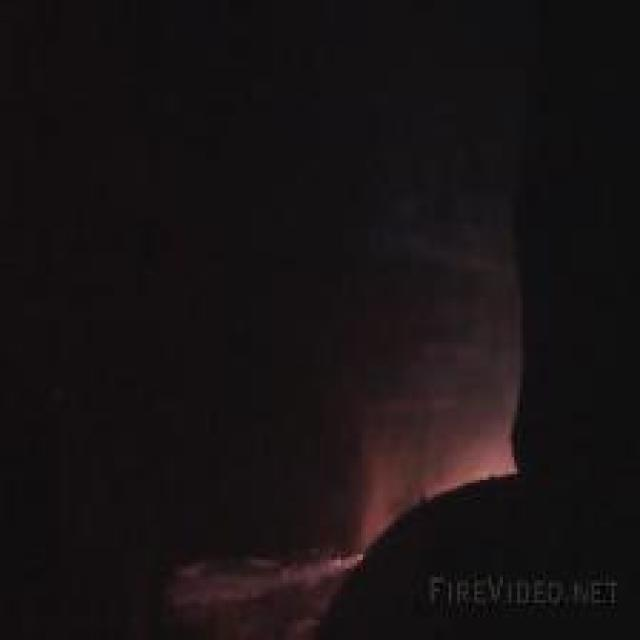other: (373, 460, 526, 501)
